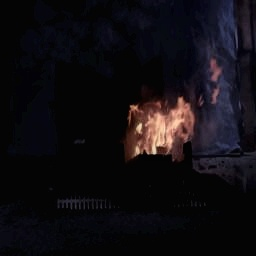fire: (122, 80, 203, 163)
